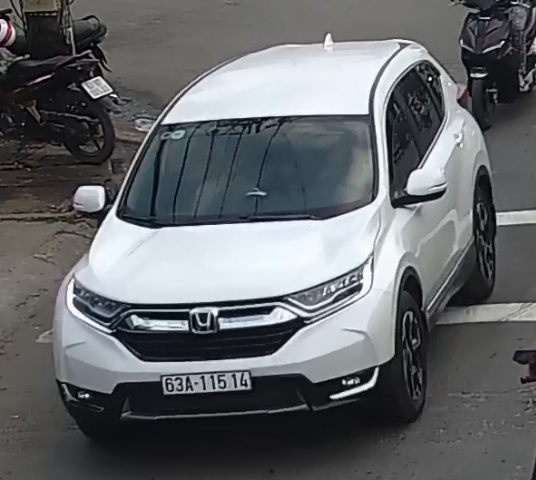vehicle plate: (158, 367, 258, 397)
